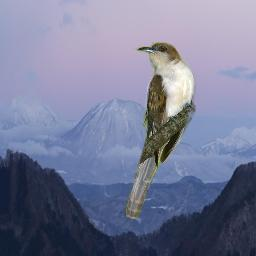Cuckoo: (125, 42, 196, 219)
